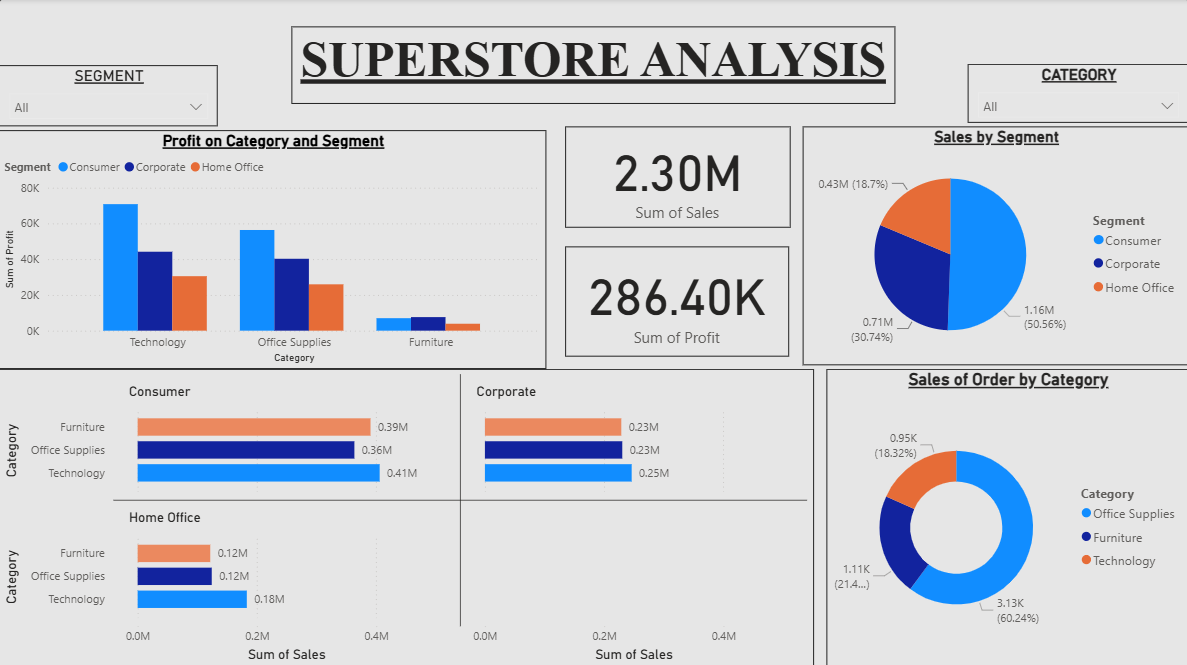

The page's visual inventory and layout, read from the dashboard file:
{"tool":"powerbi","page":{"name":"Page 1","canvas":[1280,720],"ordinal":0},"visuals":[{"type":"barChart","fields":{"Category":["Orders.Category"],"Y":["Sum(Orders.Sales)"],"Rows":["Orders.Segment"]},"box":[0,398.1,876.8,321.4],"z":0},{"type":"clusteredColumnChart","title":"Profit on Category and Segment","fields":{"Category":["Orders.Category"],"Y":["Sum(Orders.Profit)"],"Series":["Orders.Segment"]},"box":[0,141.2,589,256.9],"z":1000},{"type":"donutChart","title":"Sales  of Order by Category","fields":{"Y":["CountNonNull(Orders.Order ID)"],"Category":["Orders.Category"]},"box":[890.3,398.1,390,321.4],"z":2000},{"type":"pieChart","title":"Sales by Segment","fields":{"Category":["Orders.Segment"],"Y":["Sum(Orders.Sales)"]},"box":[864.7,137.2,415.6,256.9],"z":3000},{"type":"card","fields":{"Values":["Sum(Orders.Sales)"]},"box":[609.2,137.2,242.1,108.9],"z":4000},{"type":"card","fields":{"Values":["Sum(Orders.Profit)"]},"box":[609.2,266.3,240.7,118.3],"z":5000},{"type":"slicer","title":"SEGMENT","fields":{"Values":["Orders.Segment"]},"box":[0,71.3,235.3,65.9],"z":6000},{"type":"slicer","title":"CATEGORY","fields":{"Values":["Orders.Category"]},"box":[1042.2,69.9,238,63.2],"z":7000},{"type":"textbox","box":[314.7,29.6,649.6,83.4],"z":7001}]}

Visuals, with their boxes in screenshot pixels (x1, y1, x2, y2), scaled from the page's 1280x720 canvas onto the 1187x665 screenshot:
barChart - Orders.Category x Sum(Orders.Sales): select_region(0, 368, 813, 664)
"Profit on Category and Segment" clusteredColumnChart: select_region(0, 130, 546, 368)
"Sales  of Order by Category" donutChart: select_region(826, 368, 1186, 664)
"Sales by Segment" pieChart: select_region(802, 127, 1186, 364)
card - Sum(Orders.Sales): select_region(565, 127, 789, 227)
card - Sum(Orders.Profit): select_region(565, 246, 788, 355)
"SEGMENT" slicer: select_region(0, 66, 218, 127)
"CATEGORY" slicer: select_region(966, 65, 1186, 123)
textbox: select_region(292, 27, 894, 104)
